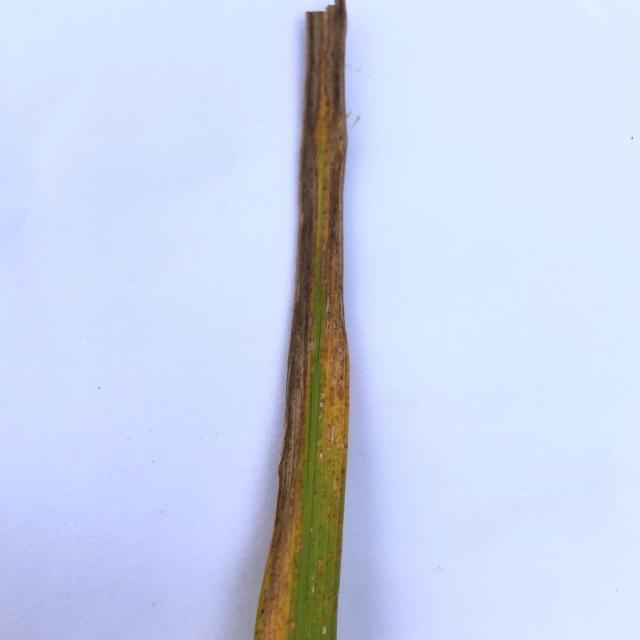tungro: (296, 7, 349, 500), (254, 481, 305, 638)
